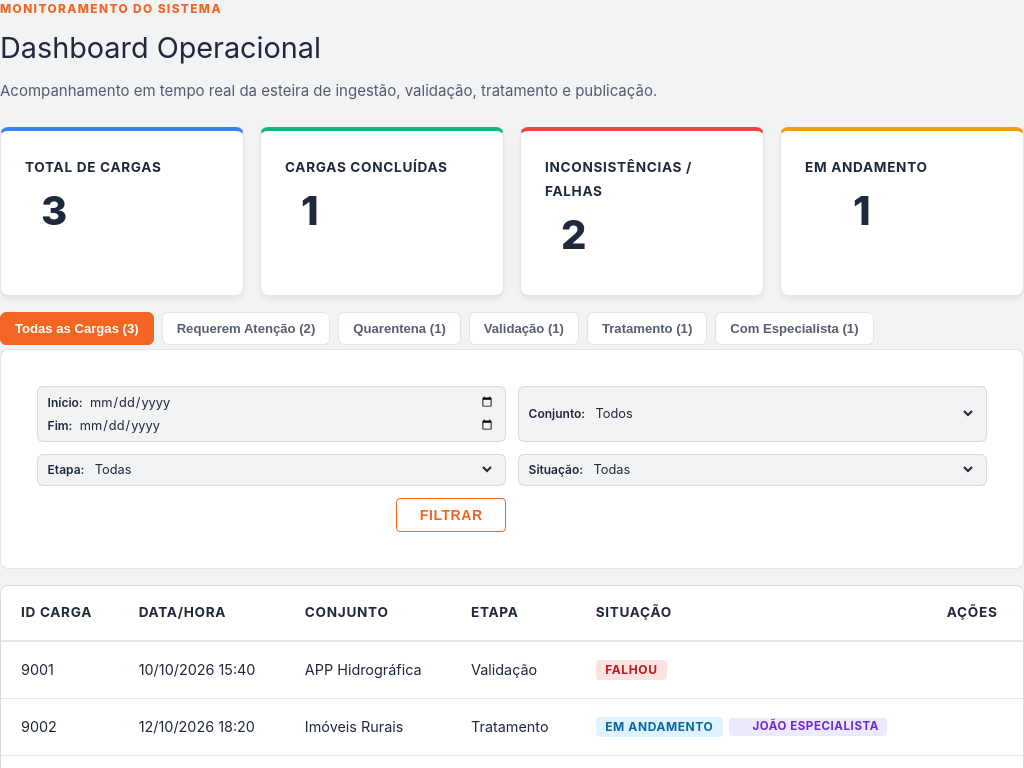
Test case: DashboardView - Painel Operacional Unificado › filtra processos ao alternar entre as abas de categoria rápida
Step 1. Click the button with class "category-tab-btn" showing "Quarentena (1)" → (400, 328), box x1=338 y1=312 x2=461 y2=345
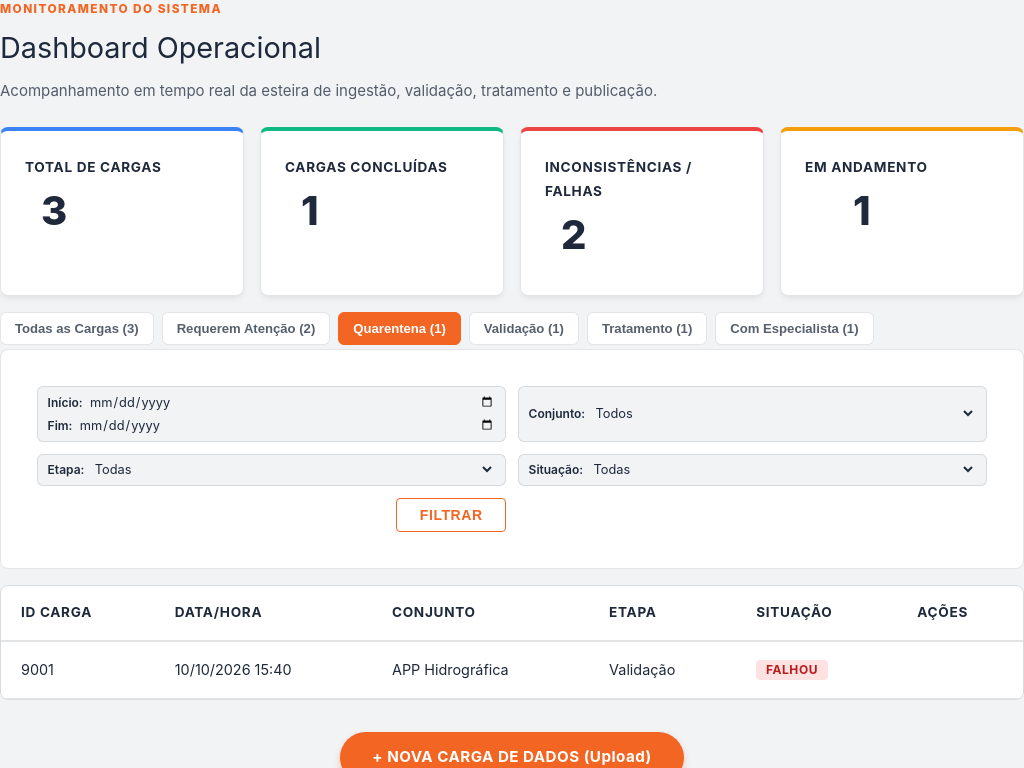
Expected: the row with class "clickable-row" shows "APP Hidrográfica", x1=392 y1=661 x2=509 y2=678
Expected: the number of rows with class "clickable-row" is 1, x1=1 y1=641 x2=1023 y2=698
Step 2. Click the button with class "category-tab-btn" showing "Com Especialista (1)" → (794, 328), box x1=715 y1=312 x2=874 y2=345
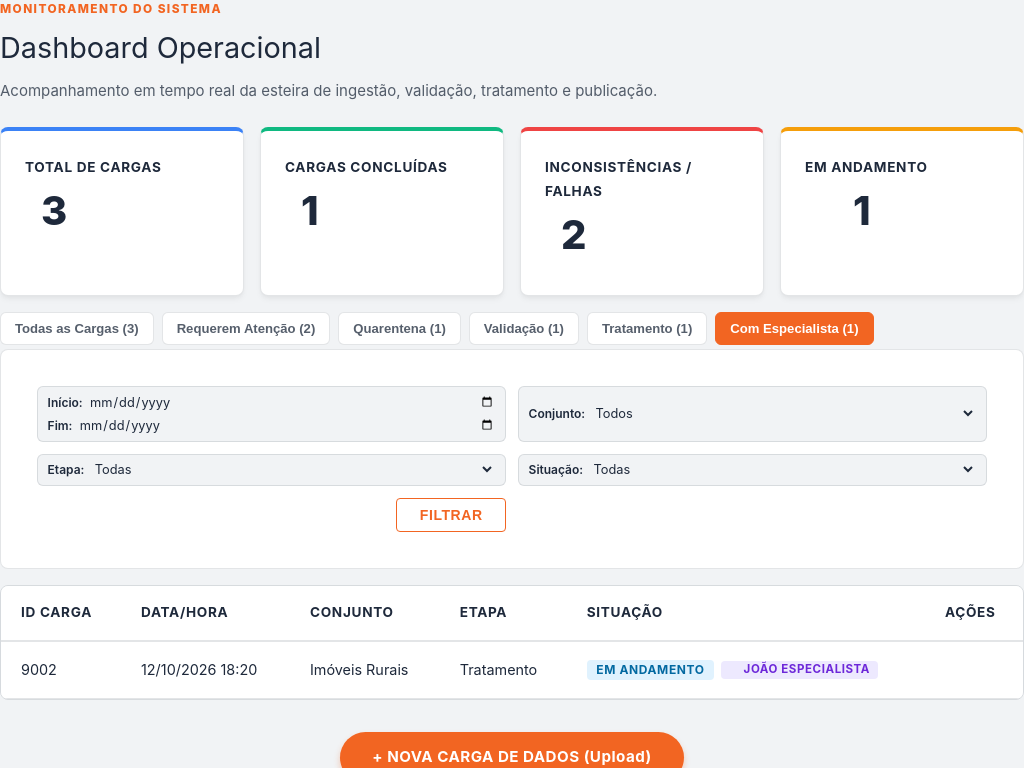
Expected: the number of rows with class "clickable-row" is 1, x1=1 y1=641 x2=1023 y2=698
Expected: the row with class "clickable-row" shows "Imóveis Rurais", x1=310 y1=661 x2=408 y2=678
